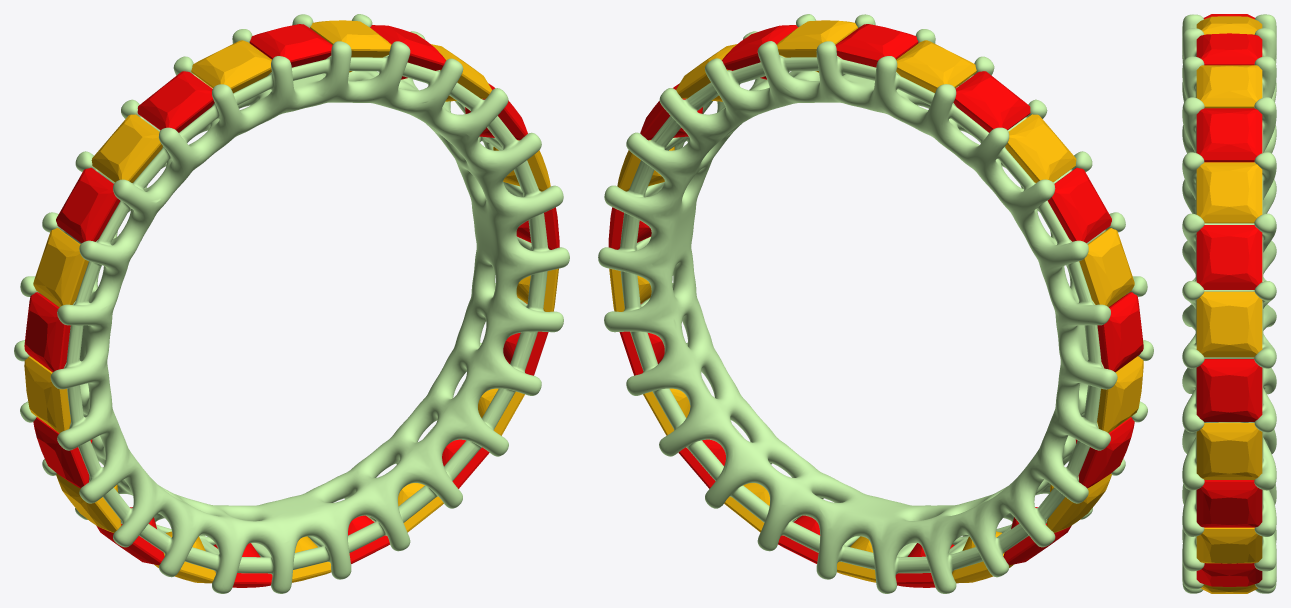
The model's file is TCC-RN-CR-32190-Princess-Eternity-10.glb.
3 renders of one model, left to right at view 1: azimuth 30°, elevation 25°; view 2: azimuth 150°, elevation 25°; view 3: azimuth 270°, elevation 25°, orthographic. The views are drawn at different scales.
Parts seen in each view (by area): view 1: Metal03, Diamond Band02.010, Diamond Band01.011, Diamond Band01.012, Diamond Band02.009, Diamond Band02.011, Diamond Band01.010, Diamond Band01, Diamond Band02.008, Diamond Band02.012, Diamond Band01.009, Diamond Band01.001 (+15 smaller); view 2: Metal03, Diamond Band02.010, Diamond Band01.011, Diamond Band01.012, Diamond Band02.009, Diamond Band02.011, Diamond Band01.010, Diamond Band01, Diamond Band02.008, Diamond Band02.012, Diamond Band01.009, Diamond Band01.001 (+15 smaller); view 3: Metal03, Diamond Band02.001, Diamond Band01.002, Diamond Band01.003, Diamond Band02, Diamond Band02.002, Diamond Band01.001, Diamond Band01.004, Diamond Band02.012, Diamond Band02.003, Diamond Band01, Diamond Band01.005 (+3 smaller).
Part boxes in pixels (bbox=[...]): Metal03: bbox=[14, 14, 569, 593]; Diamond Band02.010: bbox=[91, 114, 162, 182]; Diamond Band01.011: bbox=[56, 167, 120, 243]; Diamond Band01.012: bbox=[137, 71, 214, 132]; Diamond Band02.009: bbox=[33, 228, 88, 307]; Diamond Band02.011: bbox=[191, 40, 271, 93]; Diamond Band01.010: bbox=[24, 292, 70, 372]; Diamond Band01: bbox=[249, 24, 332, 67]; Diamond Band02.008: bbox=[24, 356, 70, 433]; Diamond Band02.012: bbox=[310, 20, 391, 72]; Diamond Band01.009: bbox=[33, 417, 92, 488]; Diamond Band01.001: bbox=[370, 25, 445, 79]; Metal03: bbox=[598, 14, 1153, 593]; Diamond Band02.010: bbox=[1005, 114, 1076, 182]; Diamond Band01.011: bbox=[1047, 167, 1111, 243]; Diamond Band01.012: bbox=[953, 71, 1030, 132]; Diamond Band02.009: bbox=[1079, 228, 1134, 307]; Diamond Band02.011: bbox=[896, 40, 976, 92]; Diamond Band01.010: bbox=[1097, 292, 1143, 372]; Diamond Band01: bbox=[835, 24, 918, 67]; Diamond Band02.008: bbox=[1097, 356, 1143, 433]; Diamond Band02.012: bbox=[776, 20, 857, 72]; Diamond Band01.009: bbox=[1075, 417, 1134, 488]; Diamond Band01.001: bbox=[722, 25, 797, 79]; Metal03: bbox=[1182, 14, 1276, 593]; Diamond Band02.001: bbox=[1196, 291, 1262, 357]; Diamond Band01.002: bbox=[1196, 225, 1262, 289]; Diamond Band01.003: bbox=[1196, 359, 1262, 421]; Diamond Band02: bbox=[1196, 162, 1262, 223]; Diamond Band02.002: bbox=[1196, 422, 1262, 479]; Diamond Band01.001: bbox=[1196, 108, 1262, 162]; Diamond Band01.004: bbox=[1196, 480, 1262, 527]; Diamond Band02.012: bbox=[1196, 65, 1262, 108]; Diamond Band02.003: bbox=[1196, 527, 1262, 563]; Diamond Band01: bbox=[1196, 33, 1262, 65]; Diamond Band01.005: bbox=[1196, 563, 1262, 586].
Bounding box in the file's own units: 22.91 × 22.89 × 3.73.
